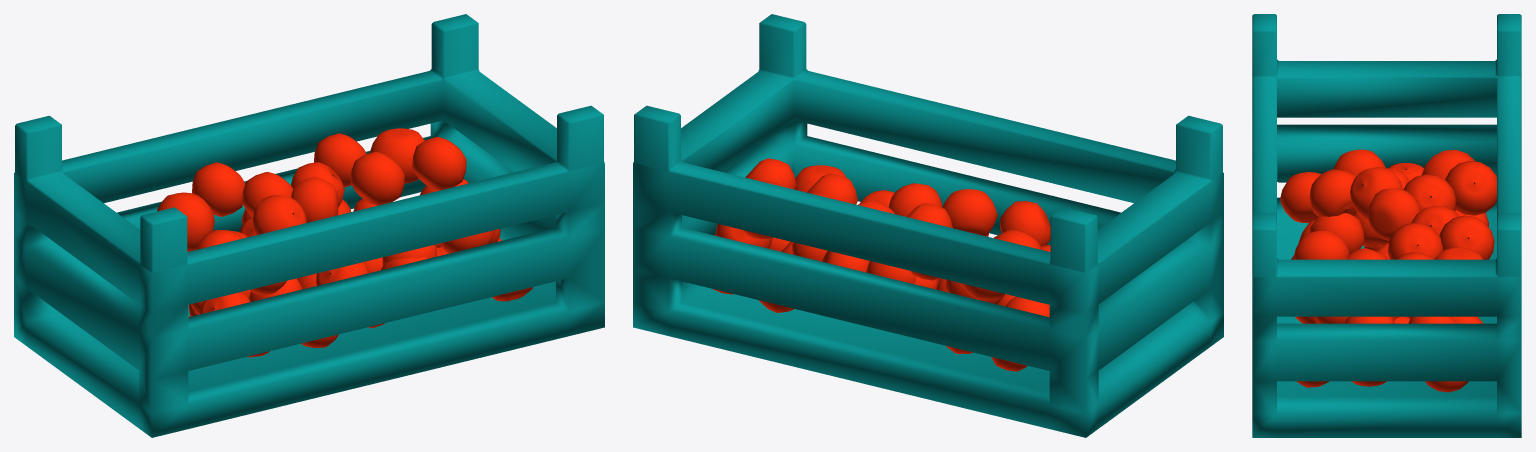
The model's file is skrzynkaZPomaranczami.FBX.
The picture shows the model from 3 angles, left to right: view 1: azimuth 30°, elevation 25°; view 2: azimuth 150°, elevation 25°; view 3: azimuth 270°, elevation 25°; orthographic projection. The views are drawn at different scales.
Parts seen in each view (by area): view 1: Box001, Sphere047, Sphere056, Sphere055, Sphere054, Sphere052, Sphere045, Sphere053, Sphere041, Sphere048, Sphere046, Sphere039 (+2 smaller); view 2: Box001, Sphere052, Sphere049, Sphere053, Sphere047, Sphere056, Sphere042, Sphere048, Sphere036, Sphere044, Sphere032; view 3: Box001, Sphere055, Sphere053, Sphere049, Sphere045, Sphere056, Sphere052, Sphere027, Sphere048, Sphere039, Sphere028, Sphere029 (+9 smaller).
Part boxes in pixels (<box>): Box001: <box>14,14,604,437</box>; Sphere047: <box>412,137,466,190</box>; Sphere056: <box>350,151,404,205</box>; Sphere055: <box>192,162,245,216</box>; Sphere054: <box>157,192,214,251</box>; Sphere052: <box>252,195,306,235</box>; Sphere045: <box>313,133,366,187</box>; Sphere053: <box>291,176,338,222</box>; Sphere041: <box>370,128,424,183</box>; Sphere048: <box>242,172,293,216</box>; Sphere046: <box>291,162,344,207</box>; Sphere039: <box>316,262,368,285</box>; Box001: <box>633,14,1223,437</box>; Sphere052: <box>942,189,997,236</box>; Sphere049: <box>1000,201,1050,245</box>; Sphere053: <box>888,183,942,216</box>; Sphere047: <box>745,158,796,189</box>; Sphere056: <box>807,173,857,204</box>; Sphere042: <box>795,165,846,192</box>; Sphere048: <box>907,203,952,228</box>; Sphere036: <box>715,224,772,248</box>; Sphere044: <box>866,261,916,283</box>; Sphere032: <box>822,251,869,272</box>; Box001: <box>1252,14,1521,437</box>; Sphere055: <box>1445,160,1496,215</box>; Sphere053: <box>1368,188,1420,240</box>; Sphere049: <box>1309,169,1356,216</box>; Sphere045: <box>1439,215,1494,259</box>; Sphere056: <box>1388,222,1442,259</box>; Sphere052: <box>1350,167,1402,219</box>; Sphere027: <box>1280,172,1320,222</box>; Sphere048: <box>1403,174,1456,210</box>; Sphere039: <box>1293,230,1349,259</box>; Sphere028: <box>1310,213,1364,254</box>; Sphere029: <box>1333,149,1385,176</box>.
Size of the model in its own units: 145 by 65.16 by 76.2.
